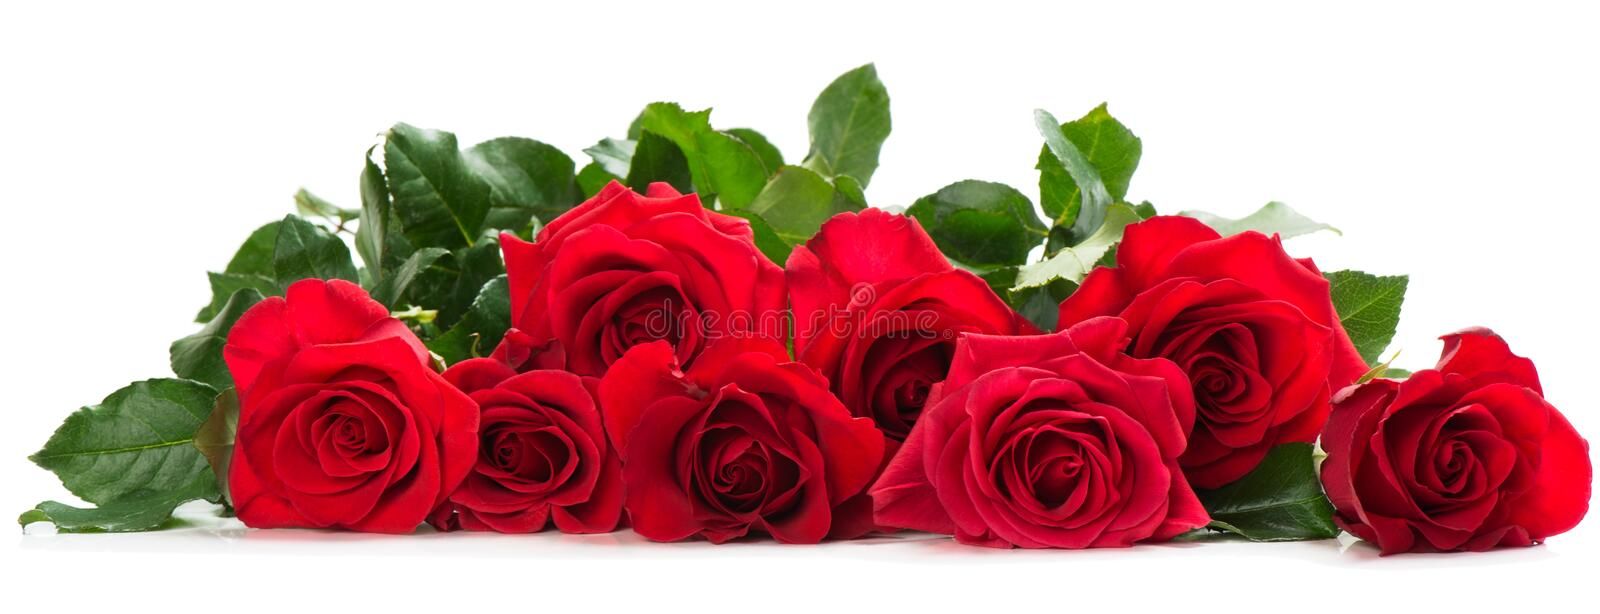RedRose: (594, 288, 877, 591), (472, 151, 798, 389), (1295, 314, 1600, 567), (204, 265, 476, 534), (881, 328, 1230, 534), (741, 190, 1026, 410), (419, 322, 645, 575)
